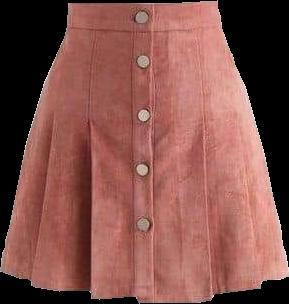Hemline: (0, 268, 288, 303)
Waistline: (65, 24, 221, 35), (67, 0, 217, 6)
